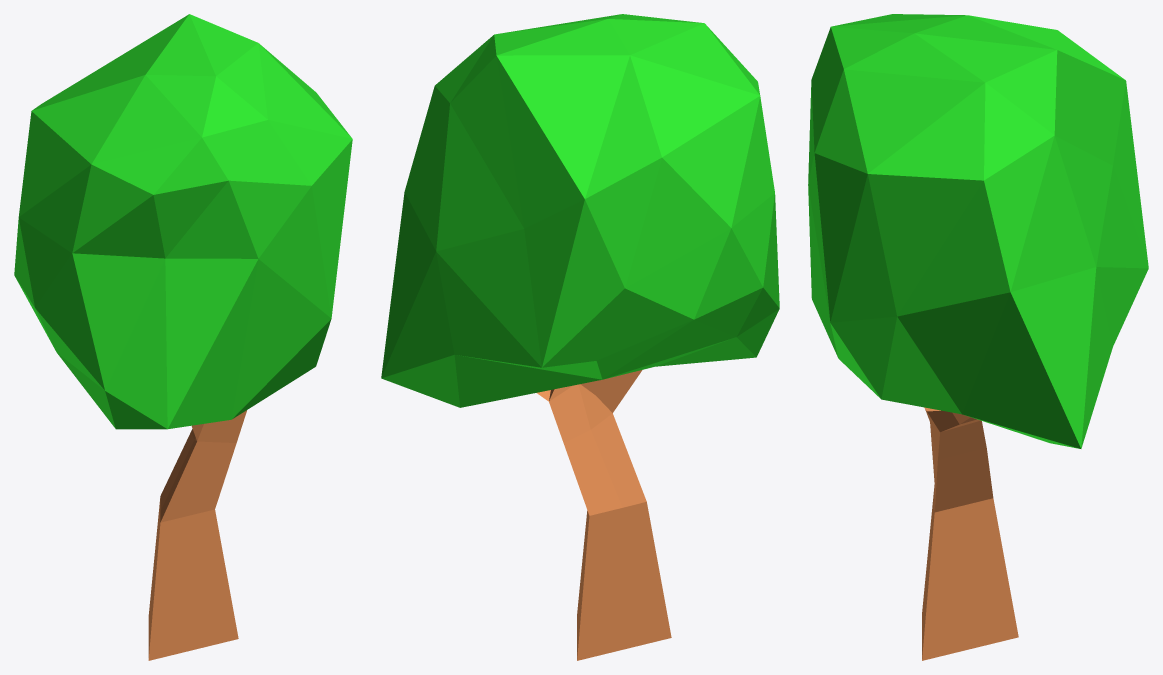
File: Tree.gltf
3 renders of one model, left to right at view 1: azimuth 30°, elevation 25°; view 2: azimuth 150°, elevation 25°; view 3: azimuth 270°, elevation 25°, orthographic. The views are drawn at different scales.
Visible parts, largest first — view 1: Tree; view 2: Tree; view 3: Tree.
Boxes of the visible parts, <box> form: Tree: <box>14,14,352,660</box>; Tree: <box>381,14,779,660</box>; Tree: <box>808,14,1148,660</box>.
Size of the model in its own units: 9.12 by 15.99 by 7.99.
